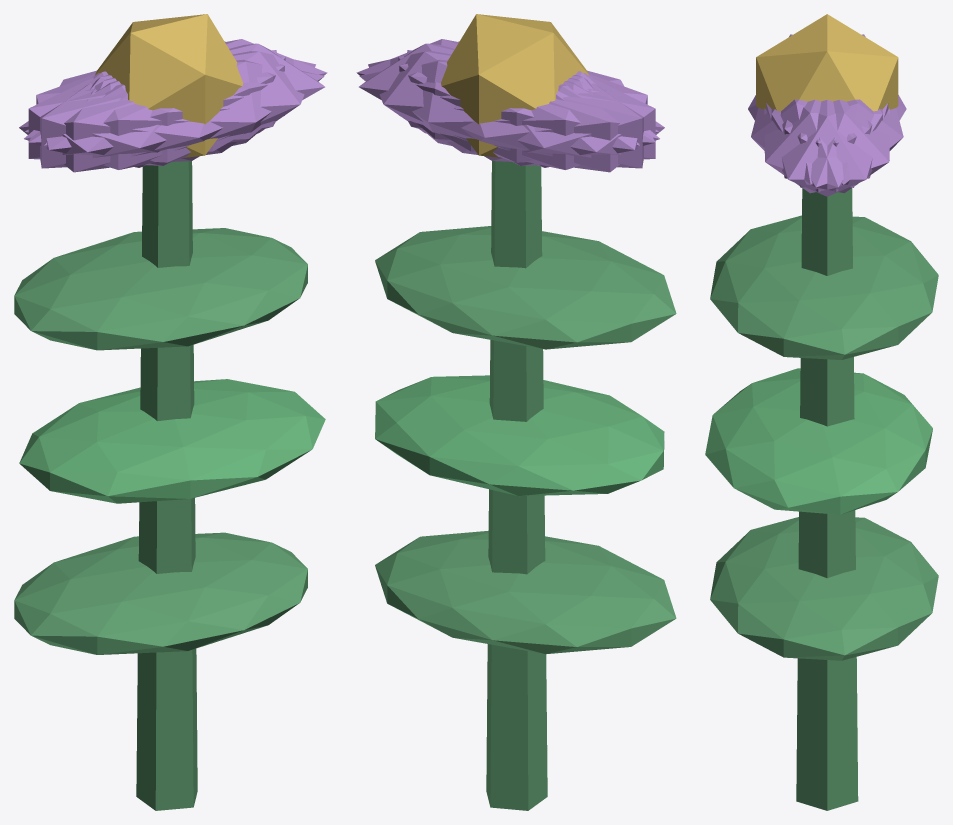
The model's file is tabernaemontana-divaricata.glb.
3 views of the same model, side by side, from view 1: azimuth 30°, elevation 25°; view 2: azimuth 150°, elevation 25°; view 3: azimuth 270°, elevation 25° (orthographic).
Visible parts, largest first — view 1: leaf1, leaf2, leaf0, stem, center, petal1, petal6, petal2, petal5, petal7, petal0, petal4 (+2 smaller); view 2: leaf2, leaf0, leaf1, stem, center, petal8, petal3, petal7, petal4, petal2, petal0, petal5 (+2 smaller); view 3: leaf2, leaf1, leaf0, stem, center, petal0, petal4, petal5, petal8, petal1.
Part boxes in pixels (bbox=[...]): leaf1: bbox=[19, 379, 325, 503]; leaf2: bbox=[14, 228, 307, 350]; leaf0: bbox=[14, 532, 307, 654]; stem: bbox=[136, 161, 197, 810]; center: bbox=[95, 14, 243, 157]; petal1: bbox=[24, 59, 324, 169]; petal6: bbox=[19, 73, 236, 172]; petal2: bbox=[40, 50, 276, 168]; petal5: bbox=[44, 51, 315, 162]; petal7: bbox=[28, 56, 285, 165]; petal0: bbox=[94, 43, 324, 151]; petal4: bbox=[25, 39, 327, 142]; leaf2: bbox=[375, 226, 676, 349]; leaf0: bbox=[375, 530, 676, 654]; leaf1: bbox=[375, 375, 664, 496]; stem: bbox=[486, 161, 547, 810]; center: bbox=[441, 14, 589, 157]; petal8: bbox=[359, 59, 659, 169]; petal3: bbox=[447, 73, 664, 172]; petal7: bbox=[407, 50, 643, 168]; petal4: bbox=[368, 51, 639, 162]; petal2: bbox=[398, 56, 655, 165]; petal0: bbox=[359, 43, 589, 151]; petal5: bbox=[356, 39, 658, 142]; leaf2: bbox=[710, 215, 938, 359]; leaf1: bbox=[705, 368, 932, 514]; leaf0: bbox=[710, 517, 938, 660]; stem: bbox=[796, 188, 858, 810]; center: bbox=[756, 14, 898, 111]; petal0: bbox=[766, 99, 888, 196]; petal4: bbox=[771, 99, 889, 193]; petal5: bbox=[764, 99, 882, 193]; petal8: bbox=[782, 99, 903, 184]; petal1: bbox=[751, 99, 872, 184].
Size of the model in its own units: 0.1484 by 0.363 by 0.1006.
